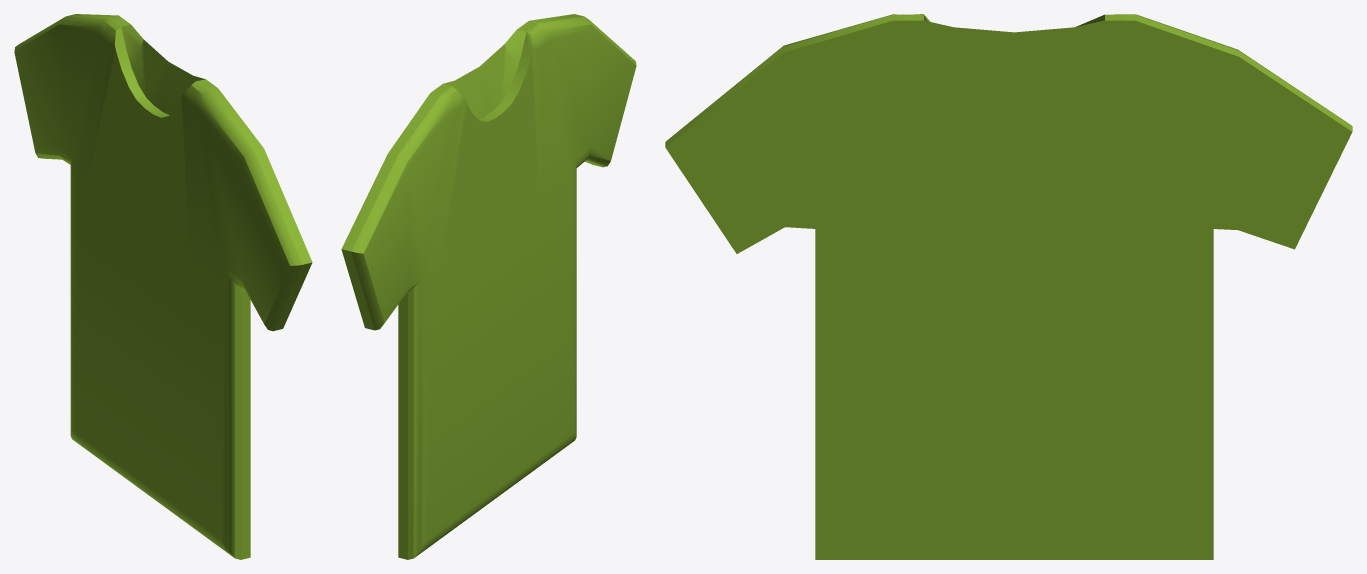
Rendered from T-Shirt.fbx.
3 renders of one model, left to right at view 1: azimuth 30°, elevation 25°; view 2: azimuth 150°, elevation 25°; view 3: azimuth 270°, elevation 25°, orthographic. The views are drawn at different scales.
Parts seen in each view (by area): view 1: Cube; view 2: Cube; view 3: Cube.
Boxes of the visible parts, box(x1,y1,x2,y2) form: Cube: box(14, 14, 312, 559); Cube: box(341, 14, 636, 559); Cube: box(665, 14, 1352, 559).
Size of the model in its own units: 20.05 by 430 by 496.
